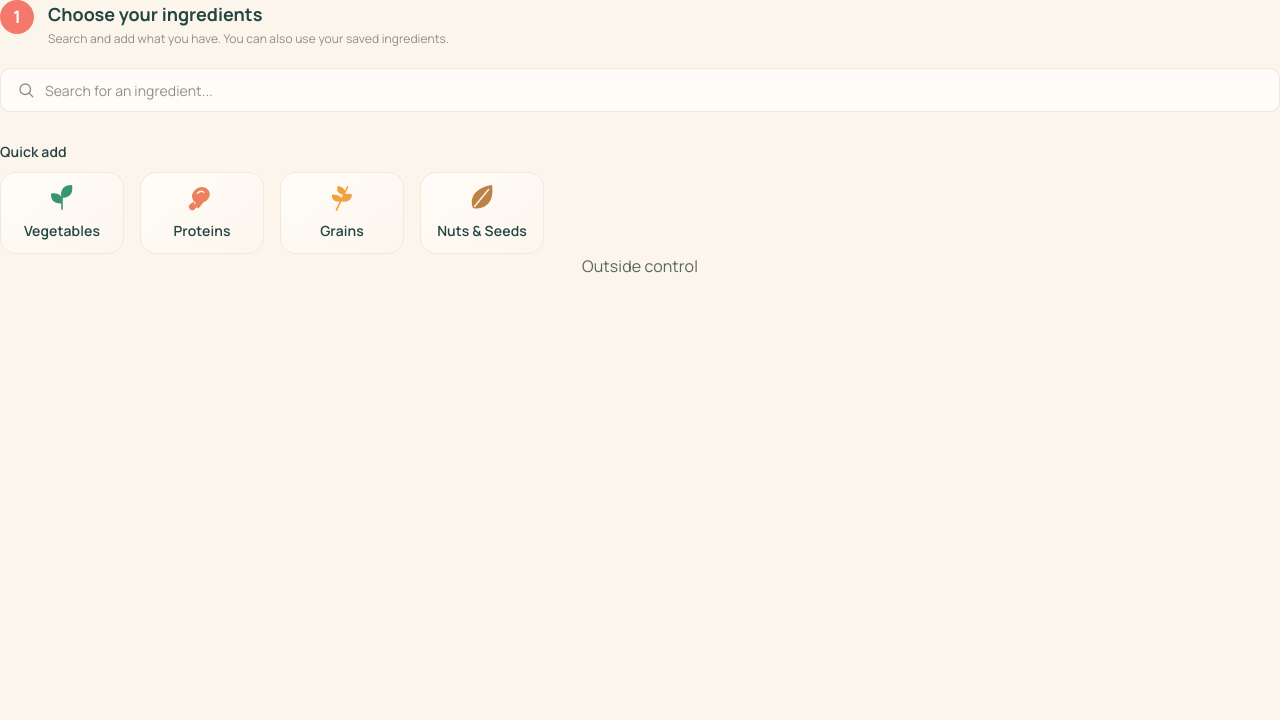
Test: ingredient Quick add integration › dismisses desktop with close and restores focus
The image size is (1280, 720).
Step 1. Click the button "Grains" → (342, 213), box [280,172,404,254]
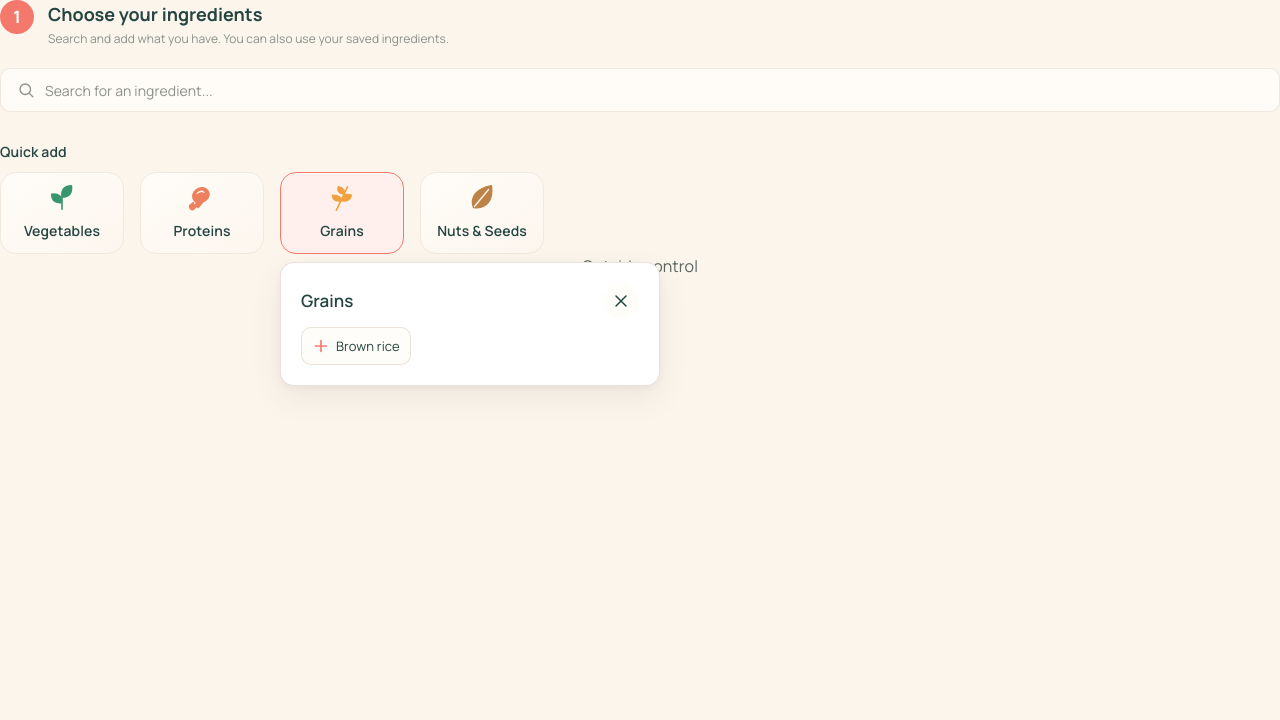
Step 2. Click the button named "Close ingredient picker" → (621, 301), box [603,283,639,319]
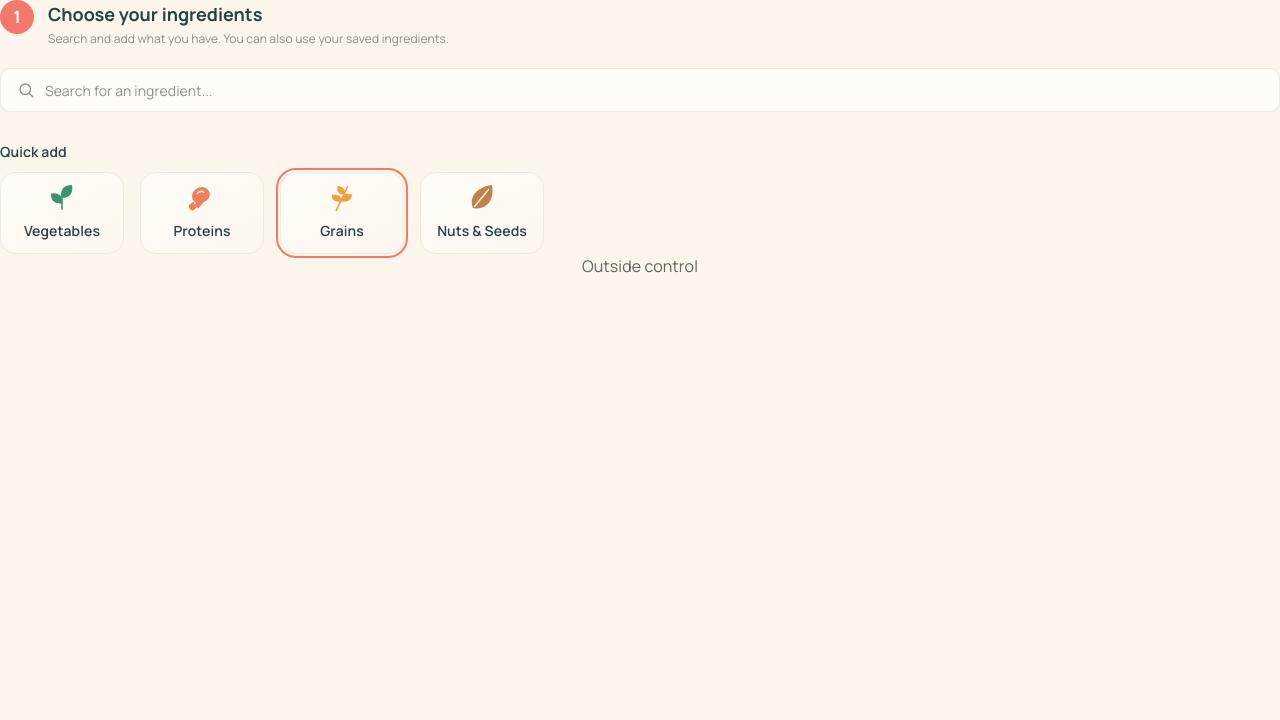
Now the dialog is gone
Now the button "Grains" is collapsed, box [280,172,404,254]
